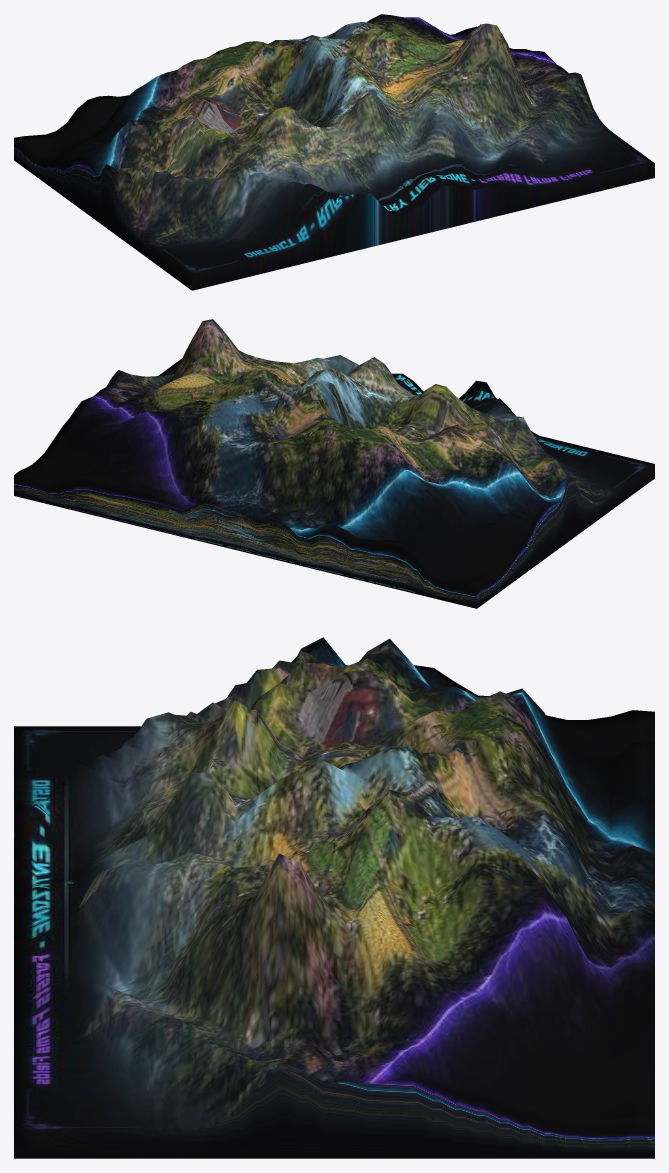
Rendered from DISTRICT_16_Rural.glb.
The picture shows the model from 3 angles, top to bottom: view 1: azimuth 30°, elevation 25°; view 2: azimuth 150°, elevation 25°; view 3: azimuth 270°, elevation 25°; orthographic projection. The views are drawn at different scales.
Visible parts, largest first — view 1: DISTRICT_16_Rural; view 2: DISTRICT_16_Rural; view 3: DISTRICT_16_Rural.
Part boxes in pixels (x1=…): DISTRICT_16_Rural: x1=14, y1=14, x2=654, y2=290; DISTRICT_16_Rural: x1=14, y1=319, x2=654, y2=608; DISTRICT_16_Rural: x1=14, y1=637, x2=654, y2=1158.
Bounding box in the file's own units: 2 × 0.51 × 1.33.
1 material, 1 textured.
